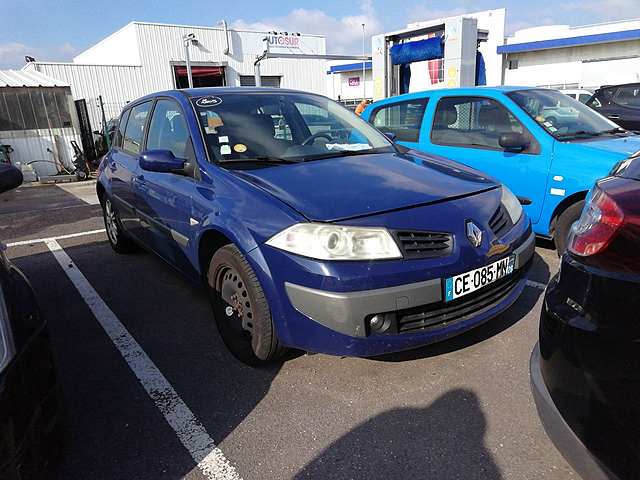tablica: (441, 253, 516, 300)
